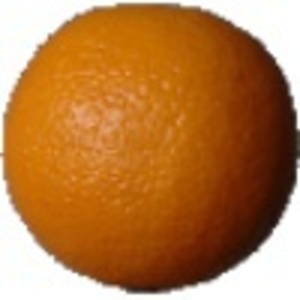laranja: (3, 3, 299, 297)
